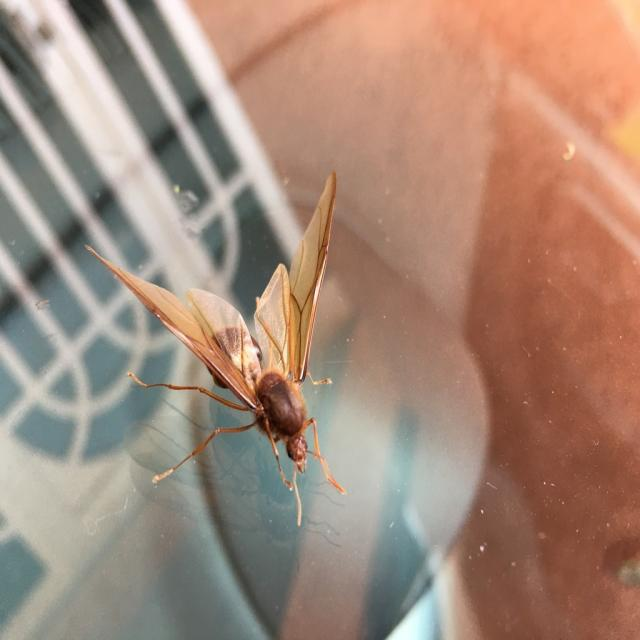Alive-Male-Alate: (84, 169, 348, 527)
